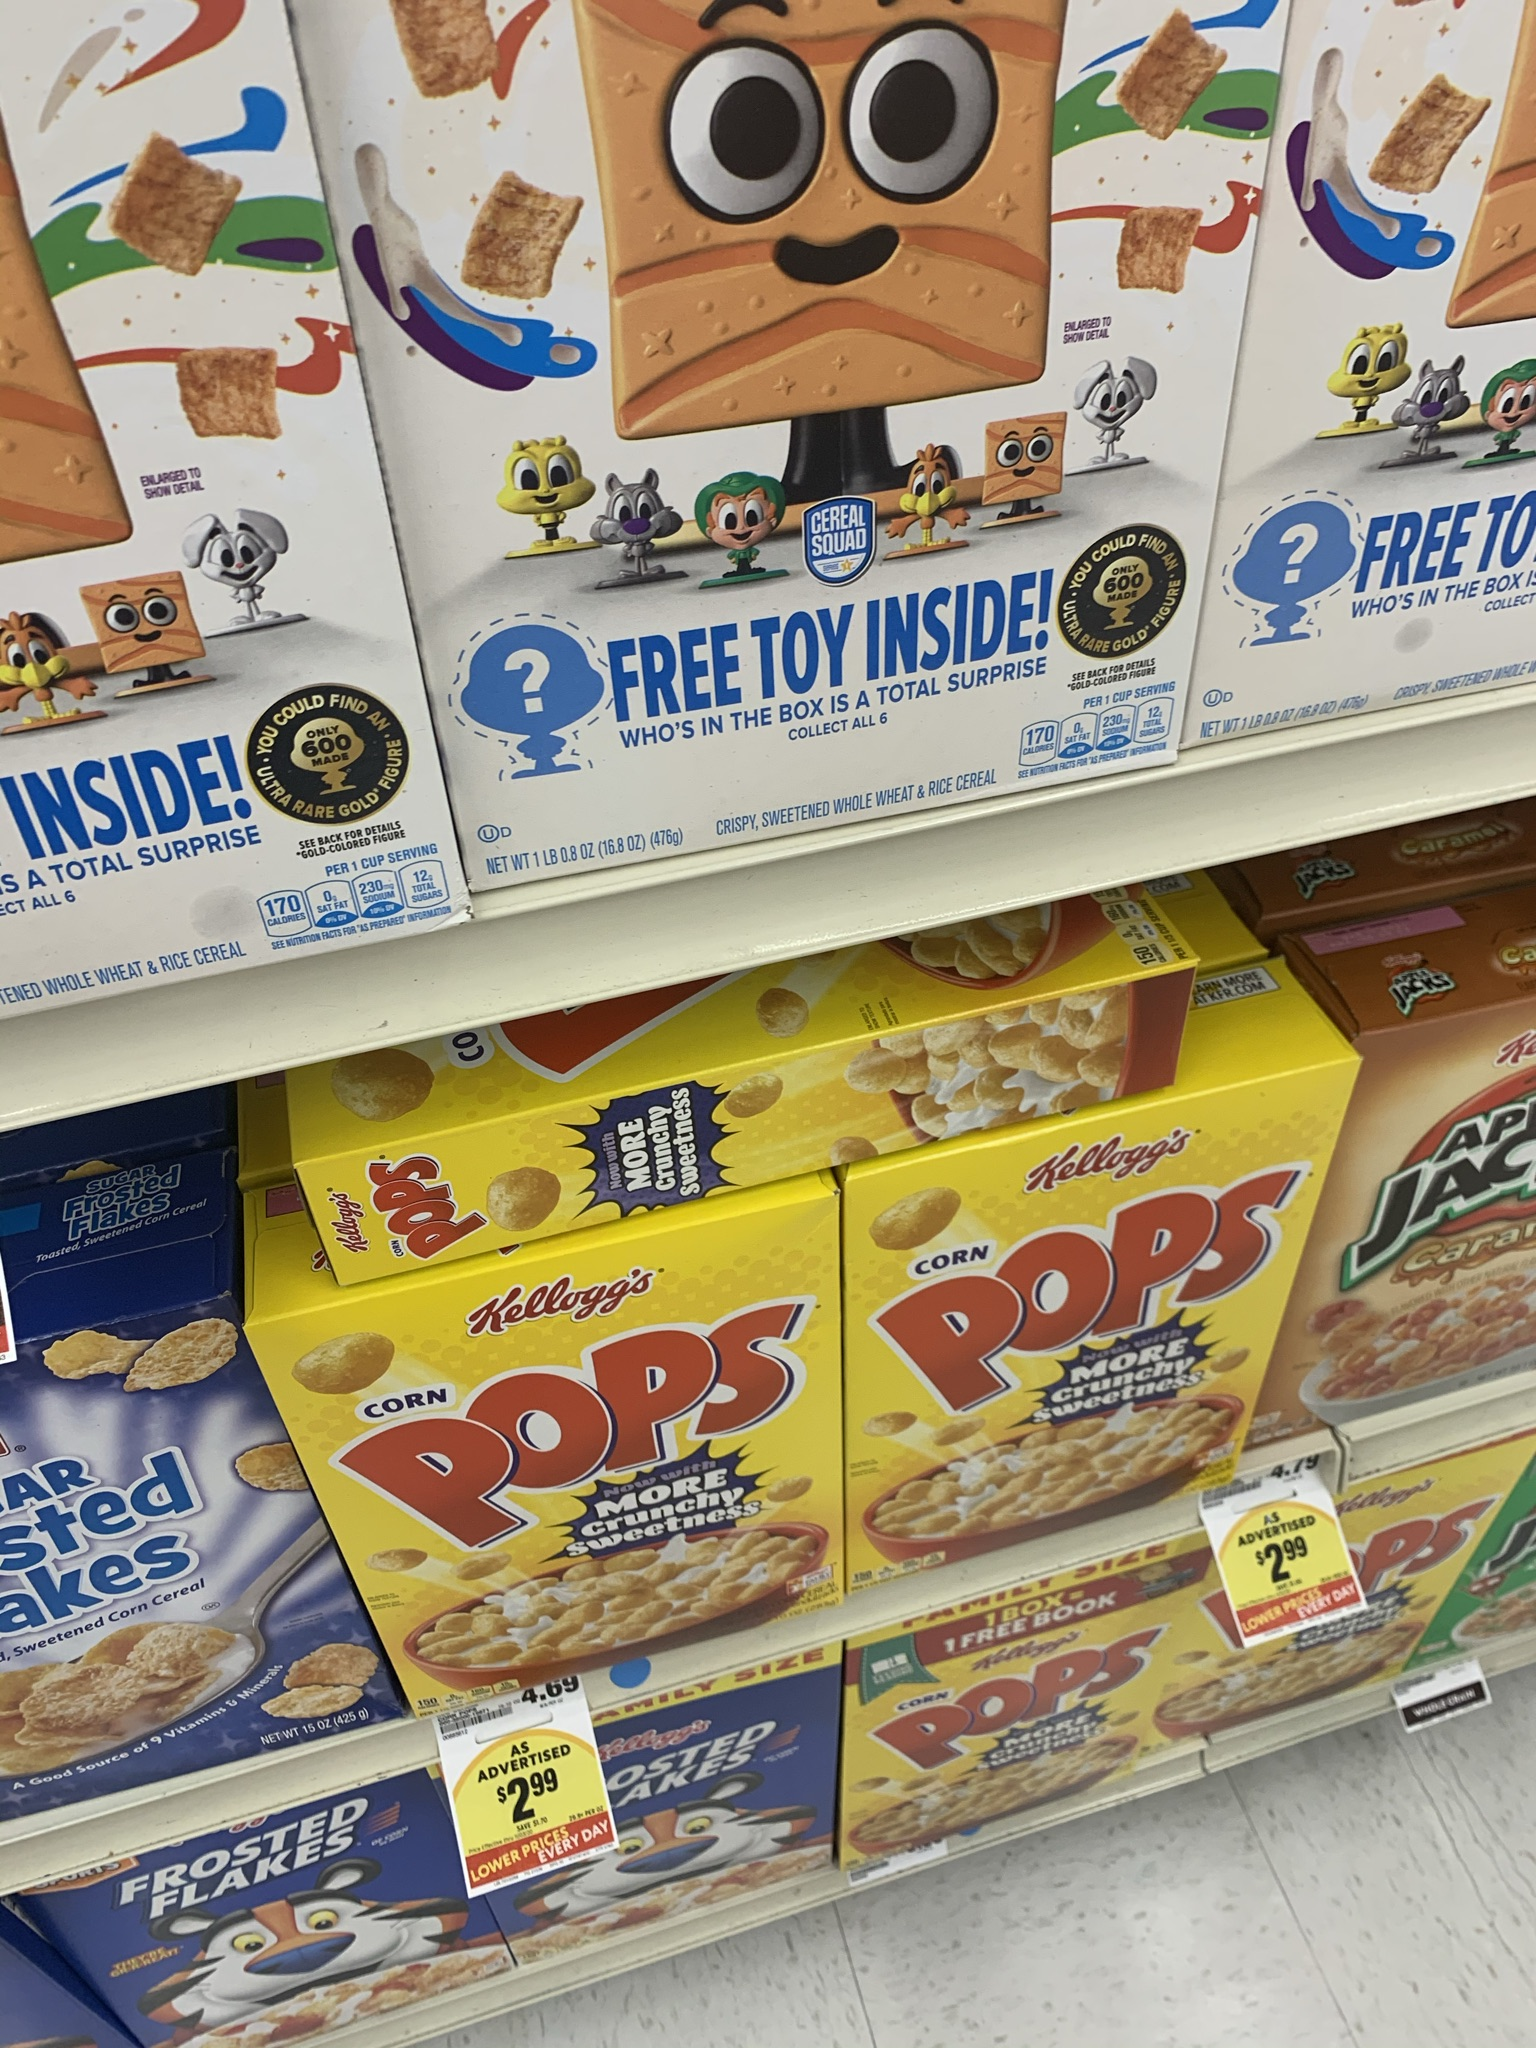Cereal frosty flakes: (82, 1887, 429, 2046), (508, 1771, 837, 1906)
Cereal pops: (302, 1335, 816, 1634), (847, 1179, 1234, 1484), (884, 1642, 1194, 1837)
